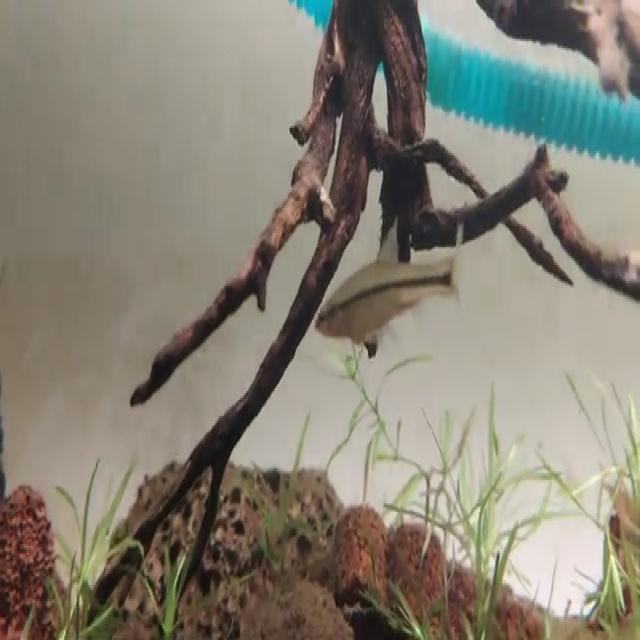Cakil Baligi: (316, 209, 466, 348)
